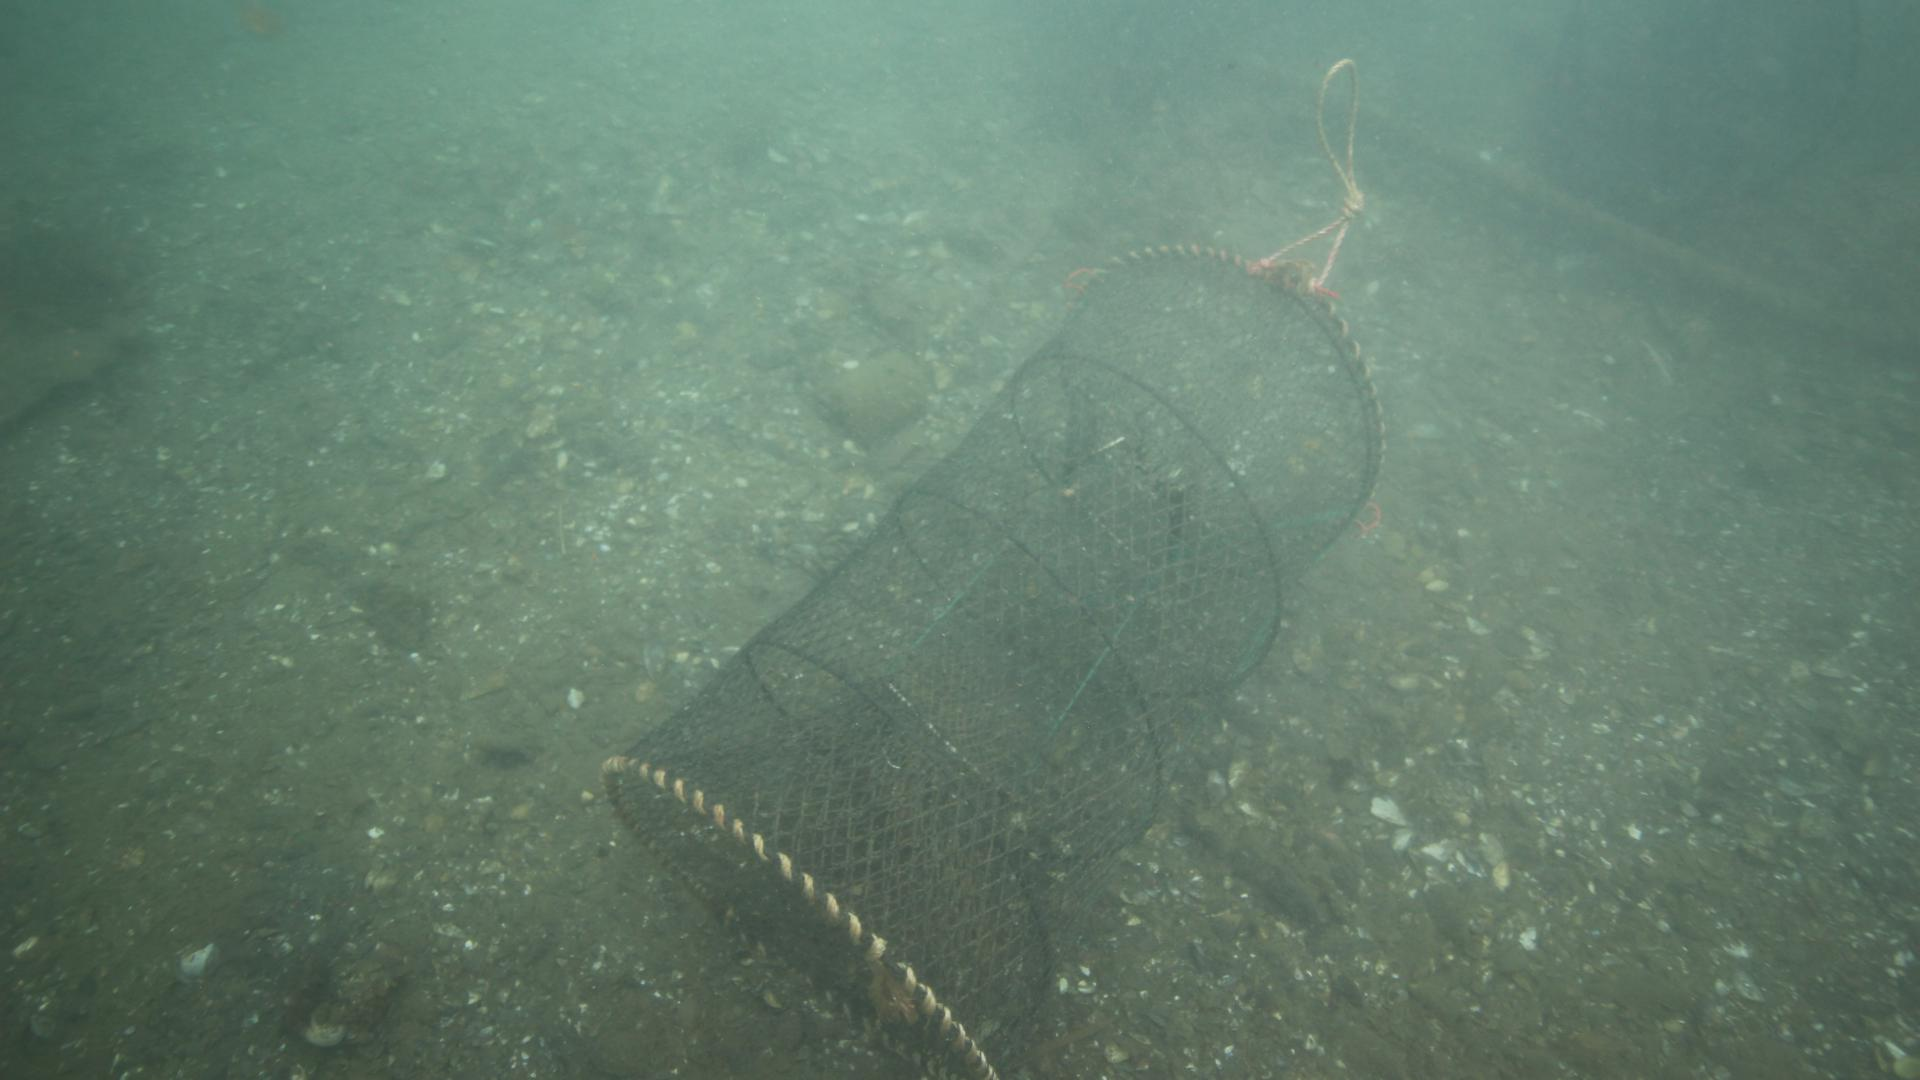bundle of ropes: (1261, 55, 1371, 290)
spring fish trap: (597, 239, 1385, 1080)
